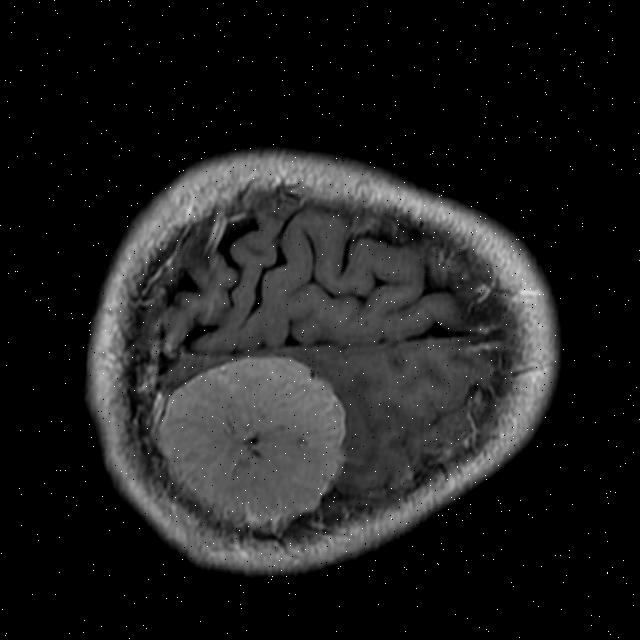Meningioma: (139, 352, 352, 528)
